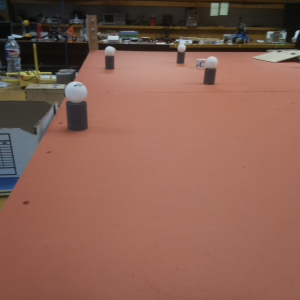obstacle: (66, 83, 88, 129), (204, 58, 216, 87), (104, 46, 115, 71), (177, 44, 186, 64)
slope: (254, 50, 295, 63)
